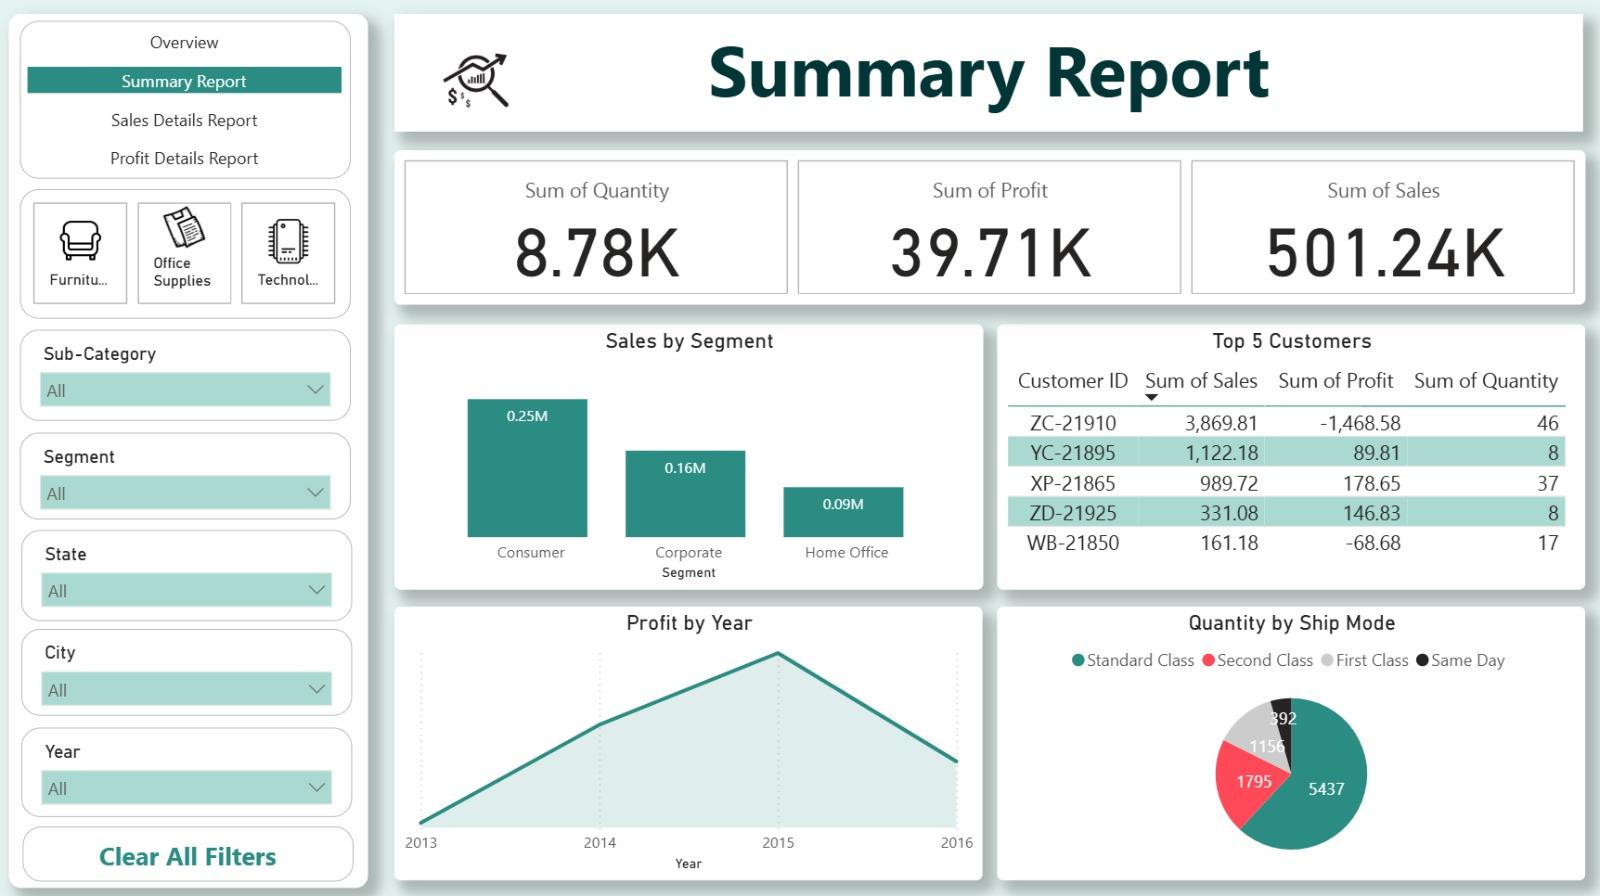

The dashboard page shown, as its layout file describes it:
{"tool":"powerbi","page":{"name":"Summary Report","canvas":[1280,720],"ordinal":1},"visuals":[{"type":"textbox","box":[315.7,11.3,948.9,93.9],"z":0},{"type":"slicer","fields":{"Values":["Central_Region.Order Date.Variation.Date Hierarchy.Year"]},"box":[18.8,581.2,263.9,71.2],"z":0,"group":"g1"},{"type":"image","box":[294.7,0,171.6,127.9],"z":1000},{"type":"slicer","fields":{"Values":["Central_Region.City"]},"box":[18.8,502,263.9,69.6],"z":1000,"group":"g1"},{"type":"columnChart","title":"Sales by Segment","fields":{"Category":["Central_Region.Segment"],"Y":["Sum(Central_Region.Sales)"]},"box":[315.7,259.1,470,212.1],"z":2000},{"type":"slicer","fields":{"Values":["Central_Region.Segment"]},"box":[17.2,344.9,263.9,69.6],"z":2000,"group":"g1"},{"type":"tableEx","title":"Top 5 Customers","fields":{"Values":["Central_Region.Customer ID","Sum(Central_Region.Sales)","Sum(Central_Region.Profit)","Sum(Central_Region.Quantity)"]},"box":[796.7,259.1,469.6,212.1],"z":3000},{"type":"slicer","fields":{"Values":["Central_Region.Sub-Category"]},"box":[17.3,262.3,263.9,72.9],"z":3000,"group":"g1"},{"type":"advancedSlicerVisual","fields":{"Values":["Cat_Image.Category"]},"box":[17.3,150.6,263.9,103.6],"z":4000,"group":"g1"},{"type":"lineChart","title":"Profit by Year","fields":{"Category":["Central_Region.Order Date.Variation.Date Hierarchy.Year"],"Y":["Sum(Central_Region.Profit)"]},"box":[315.7,484.1,469.6,218.6],"z":4000},{"type":"slicer","fields":{"Values":["Central_Region.State"]},"box":[18.8,422.5,263.9,72.9],"z":5000,"group":"g1"},{"type":"pieChart","title":"Quantity by Ship Mode","fields":{"Category":["Central_Region.Ship Mode"],"Y":["Sum(Central_Region.Quantity)"]},"box":[796.7,484.1,469.6,218.6],"z":5000},{"type":"cardVisual","fields":{"Data":["Sum(Central_Region.Quantity)","Sum(Central_Region.Profit)","Sum(Central_Region.Sales)"]},"box":[315.7,119.8,950.5,123.1],"z":6000},{"type":"actionButton","title":"Clear All Filters","box":[18.9,659,263.9,43.7],"z":6000,"group":"g1"},{"type":"textbox","box":[8.1,11.3,286.6,697.9],"z":7000},{"type":"pageNavigator","box":[17.3,16.2,263.9,126.3],"z":7000,"group":"g1"},{"type":"group","id":"g1","title":"Group 1","box":[17.2,16.2,265.7,686.6],"z":8000}]}

Visuals, with their boxes in screenshot pixels (x1, y1, x2, y2), scaled from the page's 1280x720 canvas onto the 1600x896 screenshot:
textbox: pyautogui.locateOnScreen(395, 14, 1581, 131)
slicer - Central_Region.Order Date.Variation.Date Hierarchy.Year: pyautogui.locateOnScreen(24, 723, 353, 812)
image: pyautogui.locateOnScreen(368, 0, 583, 159)
slicer - Central_Region.City: pyautogui.locateOnScreen(24, 625, 353, 711)
"Sales by Segment" columnChart: pyautogui.locateOnScreen(395, 322, 982, 586)
slicer - Central_Region.Segment: pyautogui.locateOnScreen(22, 429, 351, 516)
"Top 5 Customers" tableEx: pyautogui.locateOnScreen(996, 322, 1583, 586)
slicer - Central_Region.Sub-Category: pyautogui.locateOnScreen(22, 326, 352, 417)
advancedSlicerVisual - Cat_Image.Category: pyautogui.locateOnScreen(22, 187, 352, 316)
"Profit by Year" lineChart: pyautogui.locateOnScreen(395, 602, 982, 874)
slicer - Central_Region.State: pyautogui.locateOnScreen(24, 526, 353, 616)
"Quantity by Ship Mode" pieChart: pyautogui.locateOnScreen(996, 602, 1583, 874)
cardVisual - Sum(Central_Region.Quantity) x Sum(Central_Region.Profit): pyautogui.locateOnScreen(395, 149, 1583, 302)
"Clear All Filters" actionButton: pyautogui.locateOnScreen(24, 820, 353, 874)
textbox: pyautogui.locateOnScreen(10, 14, 368, 883)
pageNavigator: pyautogui.locateOnScreen(22, 20, 352, 177)
"Group 1" group: pyautogui.locateOnScreen(22, 20, 354, 875)
